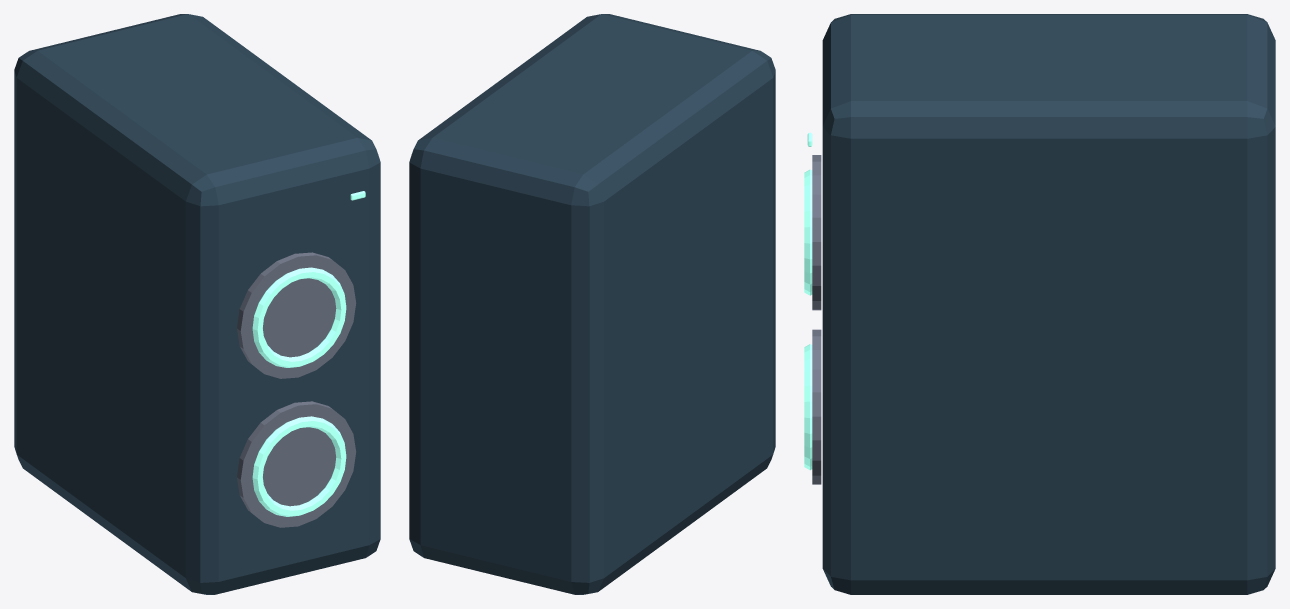
File: computer_tower.glb
3 renders of one model, left to right at view 1: azimuth 30°, elevation 25°; view 2: azimuth 150°, elevation 25°; view 3: azimuth 270°, elevation 25°, orthographic. The views are drawn at different scales.
Parts seen in each view (by area): view 1: computer_tower_Mesh; view 2: computer_tower_Mesh; view 3: computer_tower_Mesh.
Part boxes in pixels (bbox=[...]): computer_tower_Mesh: bbox=[14, 14, 380, 594]; computer_tower_Mesh: bbox=[409, 14, 775, 594]; computer_tower_Mesh: bbox=[804, 14, 1275, 594].
Size of the model in its own units: 0.23 by 0.48 by 0.4162.
